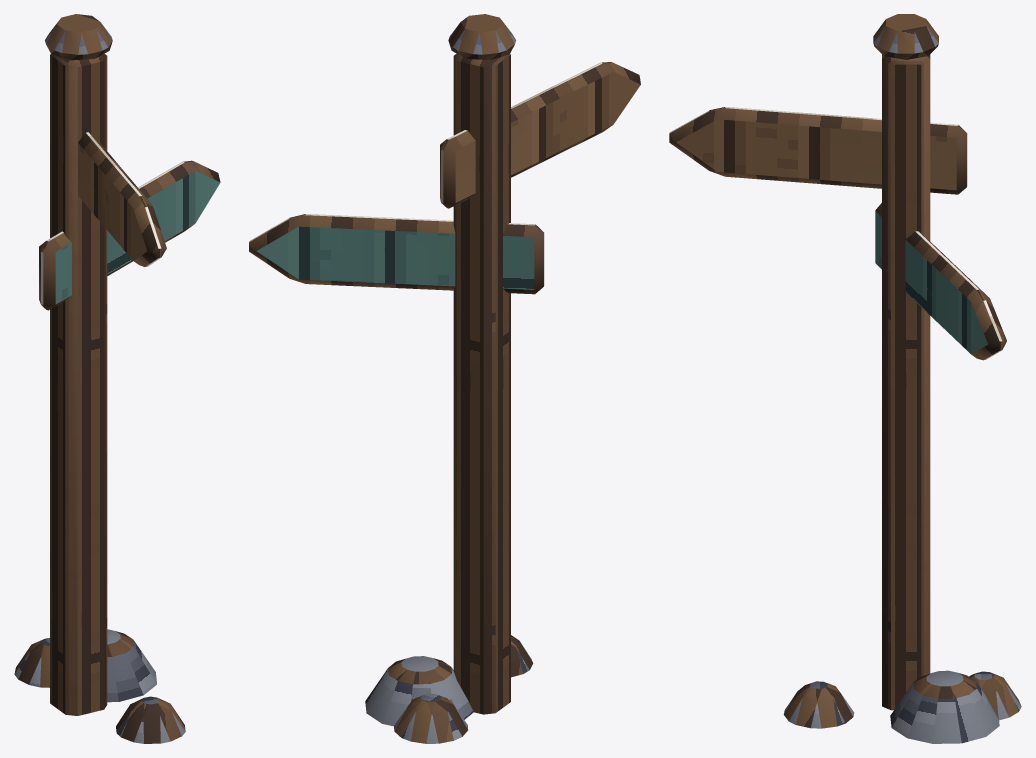
The model's file is signpost_3.glb.
3 views of the same model, side by side, from view 1: azimuth 30°, elevation 25°; view 2: azimuth 150°, elevation 25°; view 3: azimuth 270°, elevation 25° (orthographic).
Parts seen in each view (by area): view 1: signpost_4; view 2: signpost_4; view 3: signpost_4.
Boxes of the visible parts, left/top/right/bottom form: signpost_4: left=14, top=14, right=220, bottom=743; signpost_4: left=249, top=14, right=640, bottom=743; signpost_4: left=669, top=14, right=1021, bottom=743.
Bounding box in the file's own units: 0.7888 × 2.17 × 1.02.
Materials: 6 (6 with a texture image).
